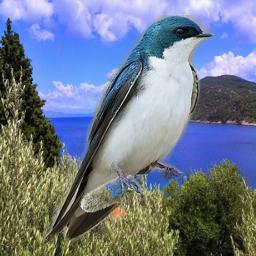Swallow: (43, 15, 215, 247)
